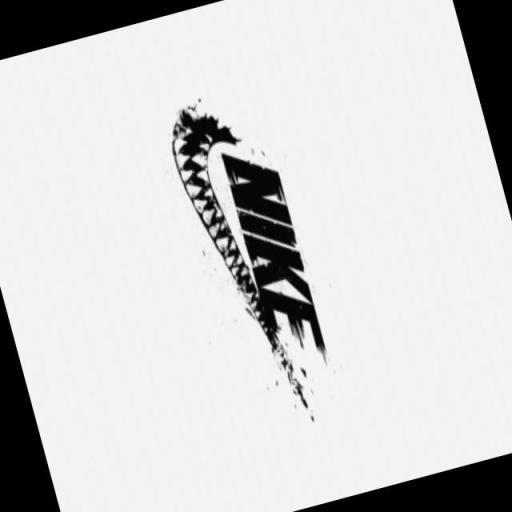Nike: (162, 105, 276, 359), (217, 139, 329, 369)
